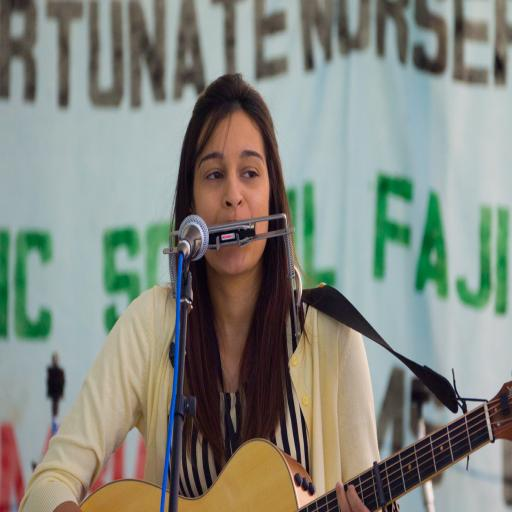Person: (36, 130, 385, 450)
no_goggle: (194, 179, 272, 207)
no_helmet: (179, 130, 275, 180)
none: (123, 266, 354, 436)
